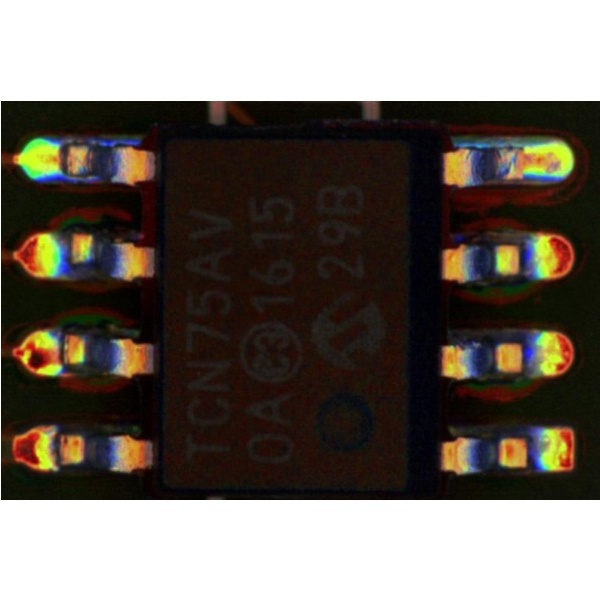Bad_podu: (502, 152, 544, 172), (49, 150, 80, 172)
Bad_qiaojiao: (48, 344, 79, 365)
